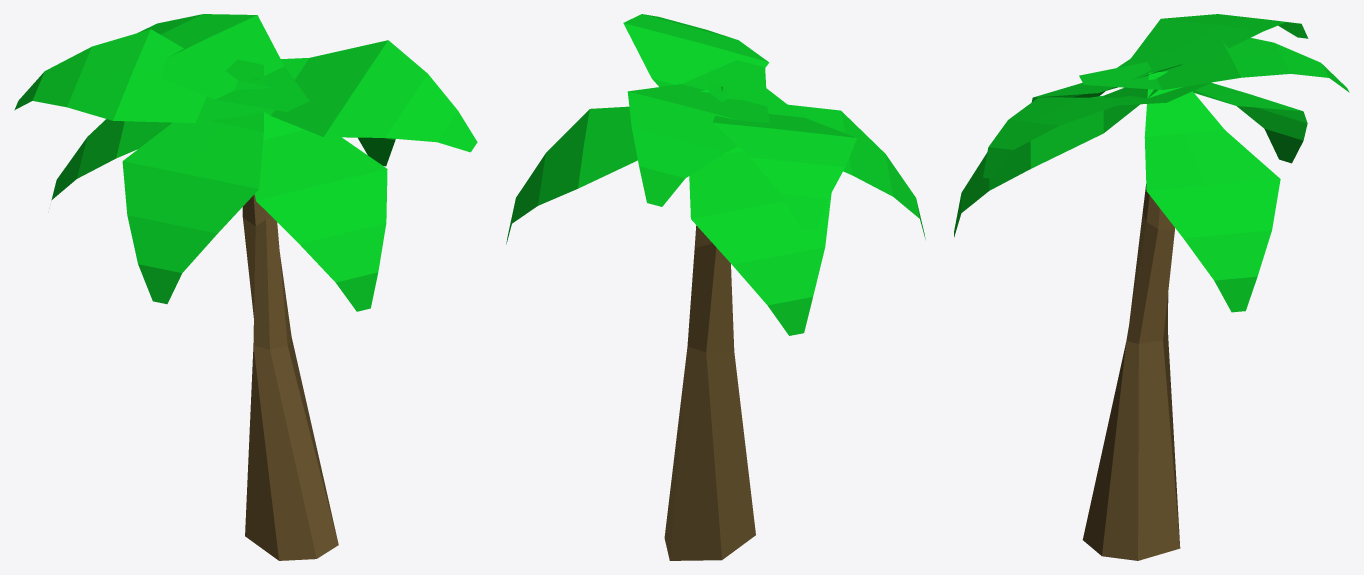
The model's file is palm_tree.fbx.
The picture shows the model from 3 angles, left to right: view 1: azimuth 30°, elevation 25°; view 2: azimuth 150°, elevation 25°; view 3: azimuth 270°, elevation 25°; orthographic projection. The views are drawn at different scales.
Parts seen in each view (by area): view 1: Root, Leaf.002, Leaf, Leaf.004, Leaf.003, Leaf.006, Leaf.001, Leaf.005; view 2: Root, Leaf.001, Leaf.006, Leaf.003, Leaf.005, Leaf.004, Leaf.002; view 3: Root, Leaf.005, Leaf.006, Leaf, Leaf.004, Leaf.003, Leaf.001, Leaf.002.
Part boxes in pixels (x1=…): Root: x1=242, y1=194, x2=338, y2=560; Leaf.002: x1=122, y1=59, x2=263, y2=304; Leaf: x1=254, y1=112, x2=387, y2=311; Leaf.004: x1=265, y1=40, x2=477, y2=152; Leaf.003: x1=14, y1=29, x2=275, y2=123; Leaf.006: x1=138, y1=14, x2=309, y2=111; Leaf.001: x1=51, y1=119, x2=172, y2=200; Leaf.005: x1=252, y1=78, x2=395, y2=166; Root: x1=664, y1=225, x2=755, y2=560; Leaf.001: x1=689, y1=90, x2=831, y2=335; Leaf.006: x1=627, y1=60, x2=770, y2=206; Leaf.003: x1=712, y1=83, x2=857, y2=230; Leaf.005: x1=506, y1=86, x2=722, y2=244; Leaf.004: x1=623, y1=14, x2=769, y2=86; Leaf.002: x1=706, y1=79, x2=925, y2=239; Root: x1=1082, y1=184, x2=1180, y2=560; Leaf.005: x1=1144, y1=71, x2=1280, y2=312; Leaf.006: x1=1079, y1=37, x2=1349, y2=92; Leaf: x1=954, y1=87, x2=1157, y2=237; Leaf.004: x1=983, y1=82, x2=1211, y2=178; Leaf.003: x1=1117, y1=14, x2=1308, y2=79; Leaf.001: x1=1154, y1=76, x2=1307, y2=163; Leaf.002: x1=1032, y1=64, x2=1182, y2=101.
Bounding box in the file's own units: 1187 × 1634 × 1220.
